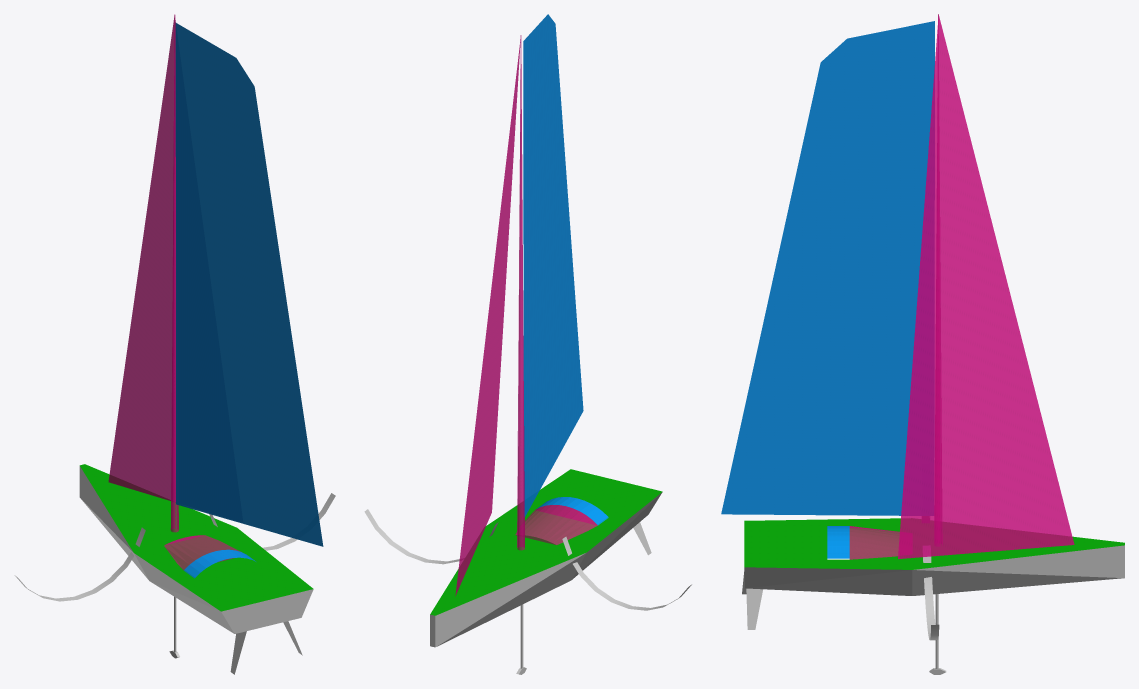
Rendered from IMOCA_FOC_BABORD.dae.
3 renders of one model, left to right at view 1: azimuth 30°, elevation 25°; view 2: azimuth 150°, elevation 25°; view 3: azimuth 270°, elevation 25°, orthographic. The views are drawn at different scales.
Parts seen in each view (by area): view 1: SketchUp (×8); view 2: SketchUp (×9); view 3: SketchUp (×7).
Part boxes in pixels (x1,y1,x2,y2): SketchUp (×8): (14, 14, 323, 633); SketchUp (×9): (364, 14, 691, 647); SketchUp (×7): (721, 15, 1124, 640).
Size of the model in its own units: 71165 by 75157 by 135626.
